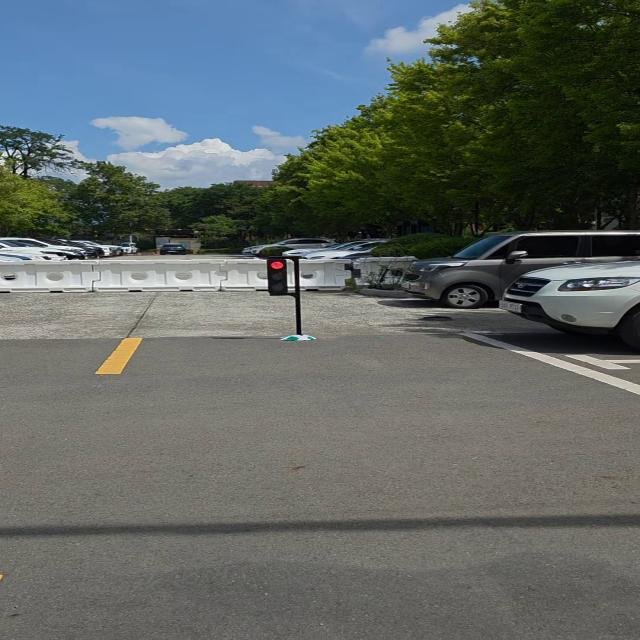red: (261, 255, 296, 295)
